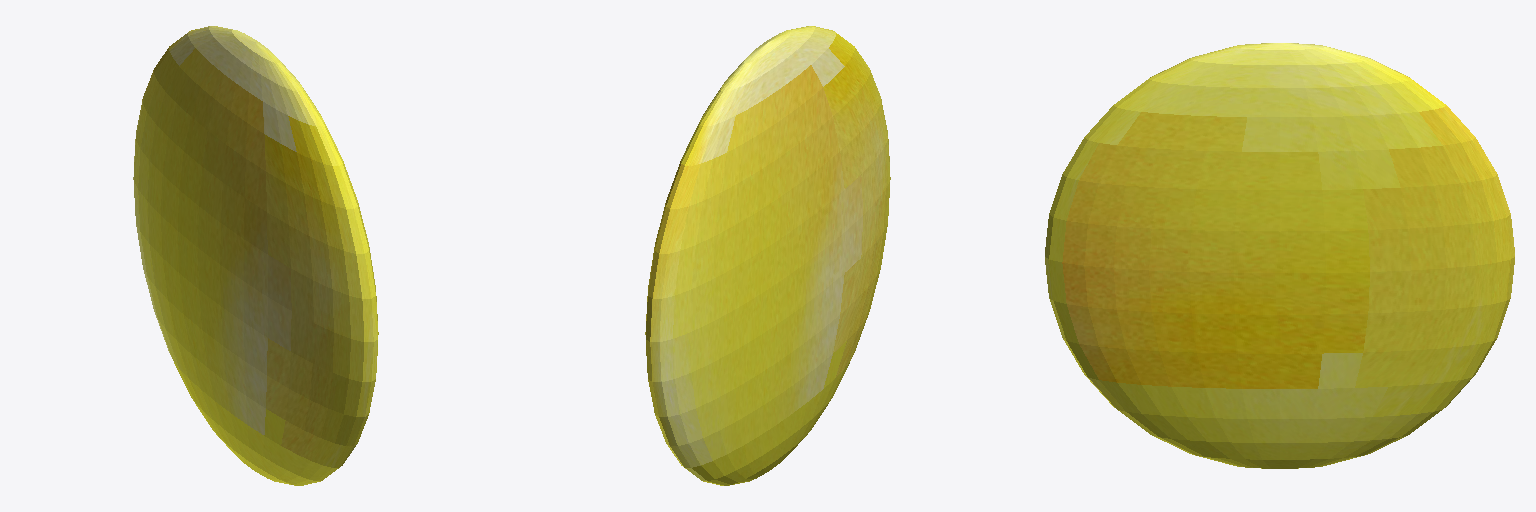
The picture shows the model from 3 angles: view 1: azimuth 30°, elevation 25°; view 2: azimuth 150°, elevation 25°; view 3: azimuth 270°, elevation 25°; orthographic projection.
Visible parts, largest first — view 1: Esfera; view 2: Esfera; view 3: Esfera.
Part boxes in pixels (x1,y1,x2,y2): Esfera: (133,26,378,485); Esfera: (645,26,890,485); Esfera: (1045,43,1514,468).
Size of the model in its own units: 0.2385 by 1.36 by 1.36.
1 materials, 1 textured.